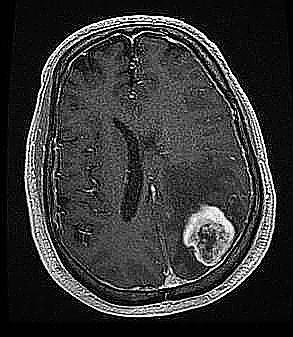Tumor: (182, 203, 236, 268)
